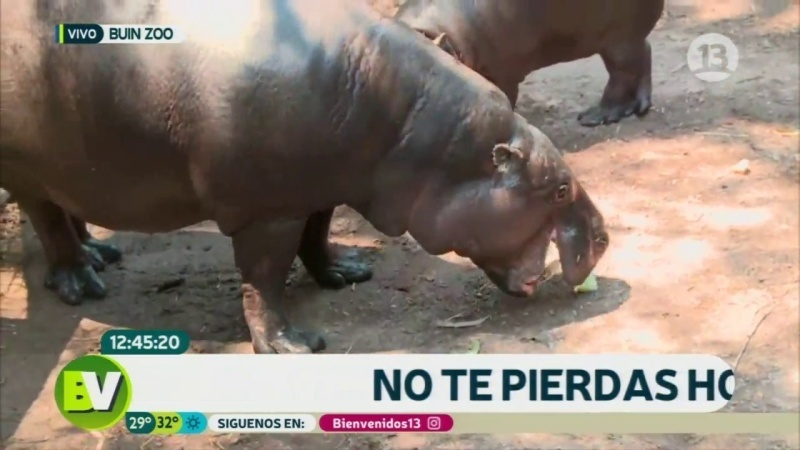hipopotamo: (3, 1, 608, 352)
